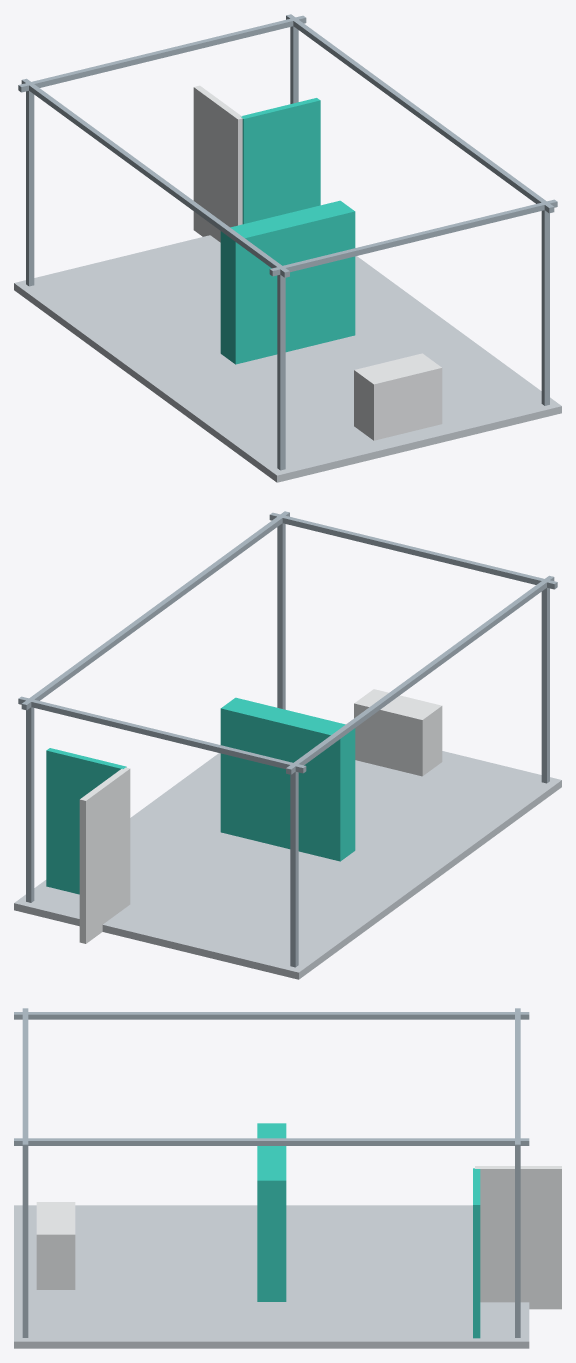
3 renders of one model, top to bottom at view 1: azimuth 30°, elevation 25°; view 2: azimuth 150°, elevation 25°; view 3: azimuth 270°, elevation 25°, orthographic. The views are drawn at different scales.
Parts seen in each view (by area): view 1: Exhibition Booth Concept; view 2: Exhibition Booth Concept; view 3: Exhibition Booth Concept.
Part boxes in pixels (x1=…): Exhibition Booth Concept: x1=14, y1=14, x2=561, y2=482; Exhibition Booth Concept: x1=14, y1=511, x2=561, y2=979; Exhibition Booth Concept: x1=14, y1=1008, x2=561, y2=1348.
Size of the model in its own units: 5 by 3.49 by 8.51.
